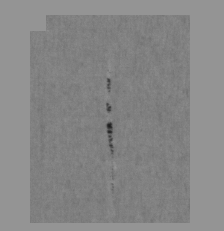oxl: (35, 10, 189, 221)
